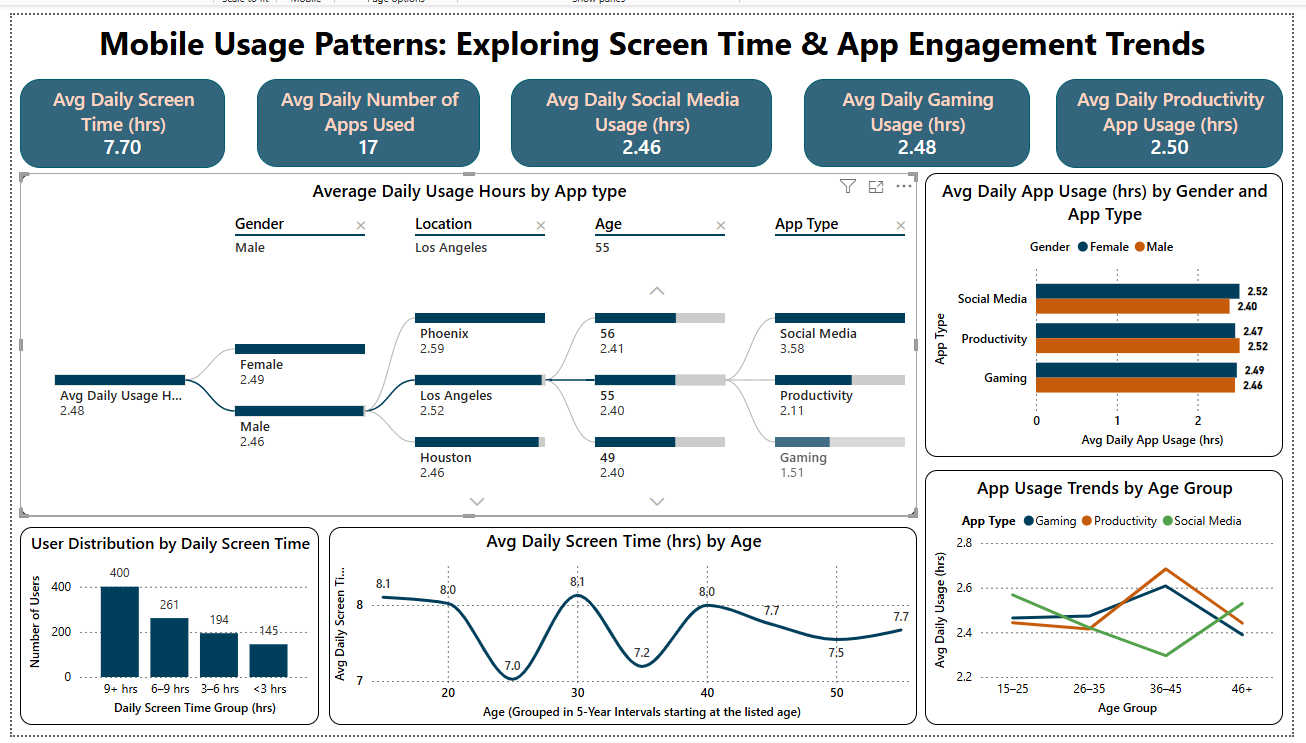

What the dashboard file says about the page in this screenshot:
{"tool":"powerbi","page":{"name":"Page 1","canvas":[1280,720],"ordinal":0},"visuals":[{"type":"textbox","box":[0,0,1280,75.8],"z":0},{"type":"decompositionTreeVisual","title":"Average Daily Usage Hours by App type","fields":{"ExplainBy":["mobile_usage_behavioral_analysis.Gender","mobile_usage_behavioral_analysis.Location","mobile_usage_behavioral_analysis.Age","App_Usage_By_Type.App_Usage_Type"],"Analyze":["App_Usage_By_Type.Avg Daily Usage Hours by App Type"]},"box":[8.1,157.6,897.3,343.9],"z":0,"group":"g1"},{"type":"card","title":"Avg Daily Screen Time (hrs)","fields":{"Values":["Avg(mobile_usage_behavioral_analysis.Daily_Screen_Time_Hours)"]},"box":[8.1,63.6,205.1,89],"z":1000},{"type":"card","title":"Avg Daily Number of Apps Used","fields":{"Values":["Avg(mobile_usage_behavioral_analysis.Number_of_Apps_Used)"]},"box":[245.4,63.6,223,88.7],"z":2000},{"type":"card","title":"Avg Daily Social Media Usage (hrs)","fields":{"Values":["Avg(mobile_usage_behavioral_analysis.Social_Media_Usage_Hours)"]},"box":[499,63.6,260.6,88.7],"z":3000},{"type":"card","title":"Avg Daily Productivity App Usage (hrs)","fields":{"Values":["Avg(mobile_usage_behavioral_analysis.Productivity_App_Usage_Hours)"]},"box":[1044.2,63.6,226.6,89],"z":4000},{"type":"card","title":"Avg Daily Gaming Usage (hrs)","fields":{"Values":["Avg(mobile_usage_behavioral_analysis.Gaming_App_Usage_Hours)"]},"box":[791.6,63.6,226.6,88.7],"z":5000},{"type":"lineChart","title":"Avg Daily Screen Time (hrs) by Age","fields":{"Y":["Avg(mobile_usage_behavioral_analysis.Daily_Screen_Time_Hours)"],"Category":["mobile_usage_behavioral_analysis.Age (bins)"]},"box":[317,512.2,588.4,197.9],"z":6000},{"type":"clusteredColumnChart","title":"User Distribution by Daily Screen Time","fields":{"Category":["mobile_usage_behavioral_analysis.ScreenTimeGroup"],"Y":["CountNonNull(mobile_usage_behavioral_analysis.User_ID)"]},"box":[8.1,512.2,299.1,197.9],"z":7000},{"type":"clusteredBarChart","title":"Avg Daily App Usage (hrs) by Gender and App Type","fields":{"Category":["App_Usage_By_Type.App Type"],"Y":["Avg(App_Usage_By_Type.Usage_Hours)"],"Series":["GenderLookup.Gender"]},"box":[913.4,157.6,357.3,284.8],"z":8000},{"type":"lineChart","title":"App Usage Trends by Age Group","fields":{"Y":["Avg(App_Usage_By_Type.Usage_Hours)"],"Series":["App_Usage_By_Type.App Type"],"Category":["App_Usage_By_Type.Age_Group"]},"box":[913.4,454.9,357.3,255.2],"z":9000},{"type":"textbox","box":[45.9,436.5,281.6,61.4],"z":11000,"group":"g1"},{"type":"group","id":"g1","title":"Group 1","box":[8.1,157.6,897.3,343.9],"z":11001}]}

Visuals, with their boxes in screenshot pixels (x1, y1, x2, y2):
textbox: x1=3 y1=7 x2=1291 y2=83
"Average Daily Usage Hours by App type" decompositionTreeVisual: x1=12 y1=165 x2=914 y2=511
"Avg Daily Screen Time (hrs)" card: x1=12 y1=71 x2=218 y2=160
"Avg Daily Number of Apps Used" card: x1=250 y1=71 x2=475 y2=160
"Avg Daily Social Media Usage (hrs)" card: x1=505 y1=71 x2=768 y2=160
"Avg Daily Productivity App Usage (hrs)" card: x1=1054 y1=71 x2=1282 y2=160
"Avg Daily Gaming Usage (hrs)" card: x1=800 y1=71 x2=1028 y2=160
"Avg Daily Screen Time (hrs) by Age" lineChart: x1=322 y1=522 x2=914 y2=721
"User Distribution by Daily Screen Time" clusteredColumnChart: x1=12 y1=522 x2=313 y2=721
"Avg Daily App Usage (hrs) by Gender and App Type" clusteredBarChart: x1=922 y1=165 x2=1282 y2=452
"App Usage Trends by Age Group" lineChart: x1=922 y1=465 x2=1282 y2=721
textbox: x1=50 y1=446 x2=333 y2=508
"Group 1" group: x1=12 y1=165 x2=914 y2=511
